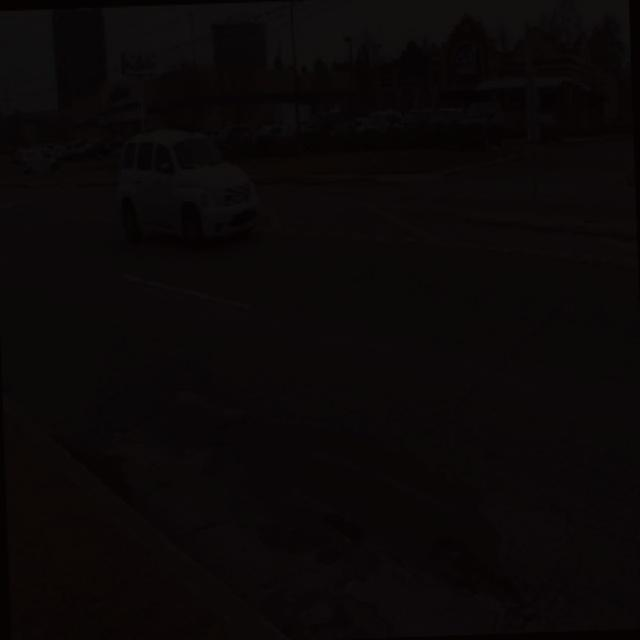Pothole: (424, 529, 534, 609), (285, 577, 410, 640), (288, 504, 367, 566)
